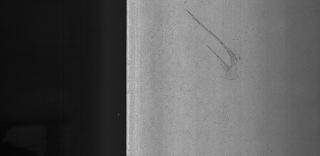water spot: (182, 7, 252, 85)
